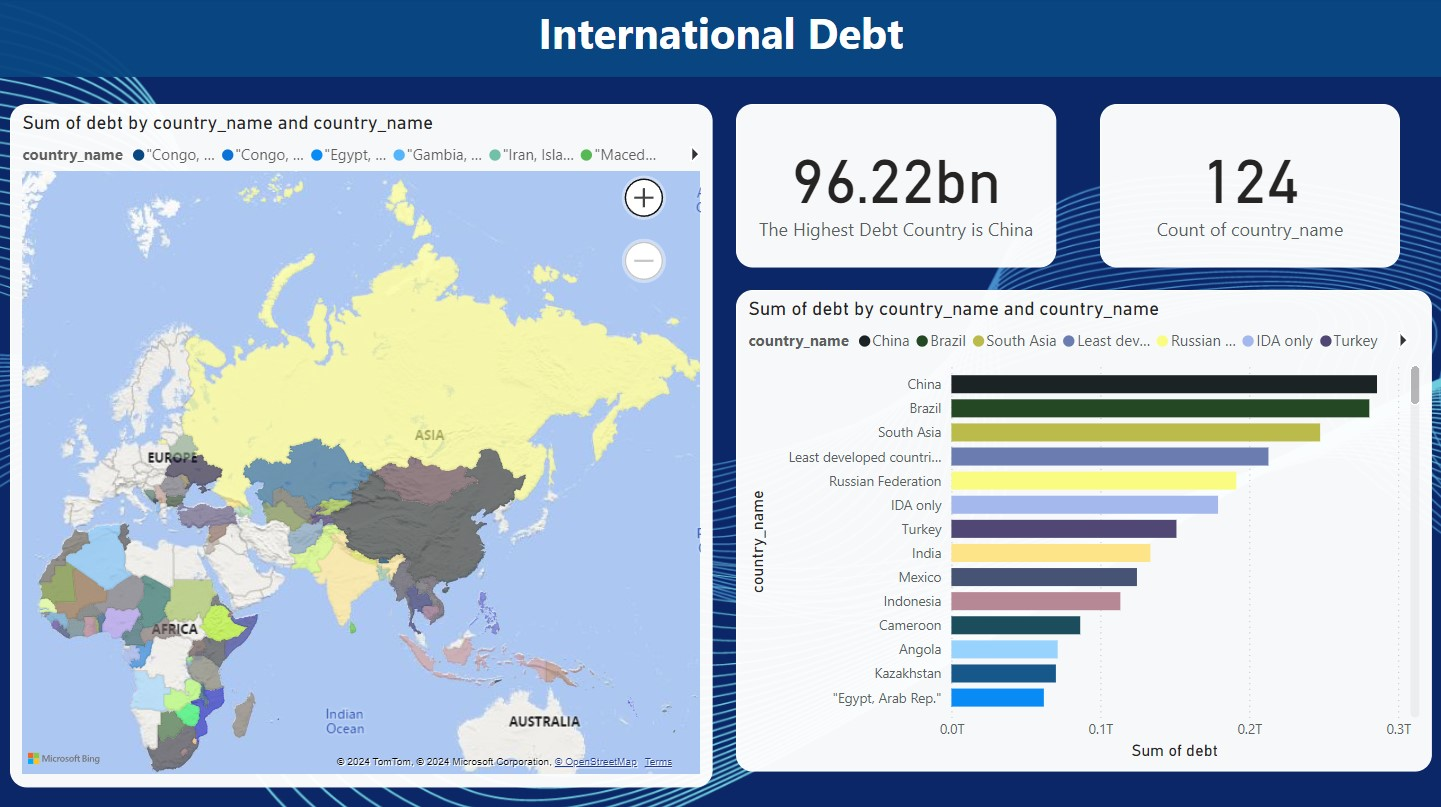

The page's visual inventory and layout, read from the dashboard file:
{"tool":"powerbi","page":{"name":"Page 1","canvas":[1280,720],"ordinal":0},"visuals":[{"type":"textbox","box":[0,0,1280.4,70],"z":0},{"type":"barChart","fields":{"Category":["dataset.country_name"],"Y":["Sum(dataset.debt)"],"Series":["dataset.country_name"]},"box":[653.5,258.9,617.1,427.4],"z":1000},{"type":"card","fields":{"Values":["Count(dataset.country_name)"]},"box":[976.3,94,266,144.5],"z":2000},{"type":"filledMap","fields":{"Category":["dataset.country_name"],"Series":["dataset.country_name"]},"box":[9.8,94,623.3,605.6],"z":4000},{"type":"card","fields":{"Values":["Max(dataset.debt)"]},"box":[653.5,94,283.7,144.5],"z":4002}]}

Visuals, with their boxes in screenshot pixels (x1, y1, x2, y2), scaled from the page's 1280x720 canvas onto the 1441x807 screenshot:
textbox: <bbox>0, 0, 1440, 78</bbox>
barChart - dataset.country_name x Sum(dataset.debt): <bbox>736, 290, 1430, 769</bbox>
card - Count(dataset.country_name): <bbox>1099, 105, 1399, 267</bbox>
filledMap - dataset.country_name x dataset.country_name: <bbox>11, 105, 713, 784</bbox>
card - Max(dataset.debt): <bbox>736, 105, 1055, 267</bbox>
